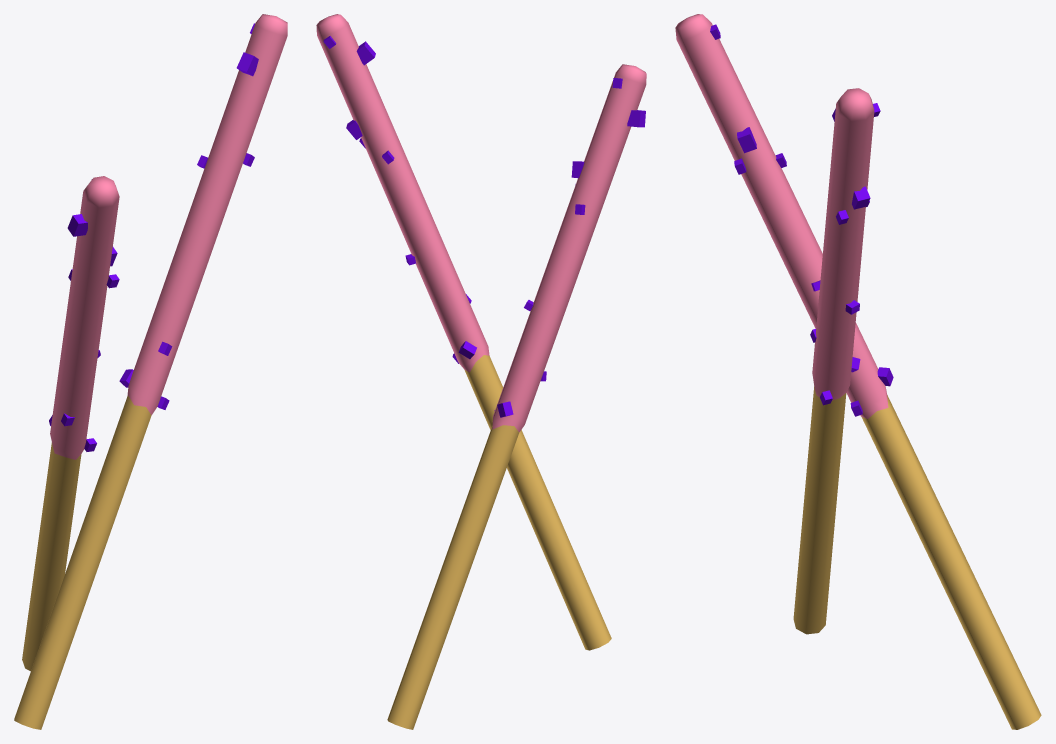
Rendered from Candy02.fbx.
The picture shows the model from 3 angles, left to right: view 1: azimuth 30°, elevation 25°; view 2: azimuth 150°, elevation 25°; view 3: azimuth 270°, elevation 25°; orthographic projection. The views are drawn at different scales.
Parts seen in each view (by area): view 1: Candy02; view 2: Candy02; view 3: Candy02.
Part boxes in pixels (bbox=[...]): Candy02: bbox=[14, 14, 287, 729]; Candy02: bbox=[316, 14, 646, 729]; Candy02: bbox=[675, 14, 1041, 729].
Size of the model in its own units: 365 by 805 by 373.
